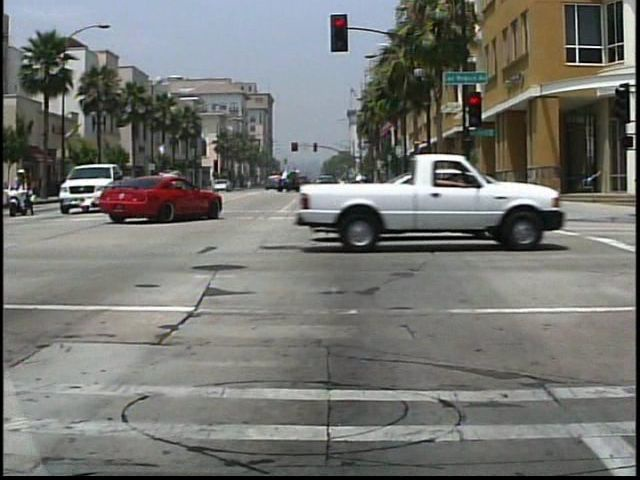person: (2, 168, 36, 219)
